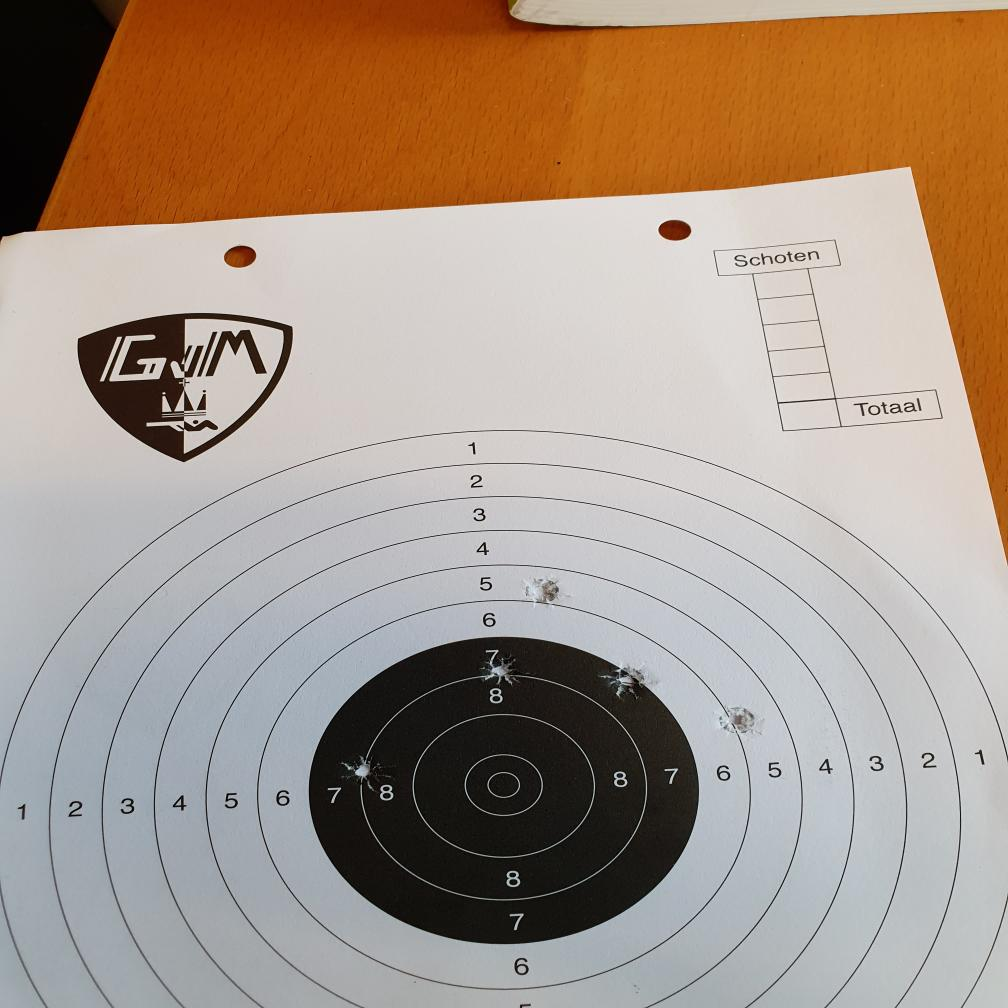6: (518, 570, 564, 605), (716, 705, 763, 733)
7: (606, 661, 652, 693)
8: (335, 749, 384, 788), (477, 651, 525, 688)
Target: (0, 427, 1008, 1008)
black_contour: (308, 638, 700, 944)
